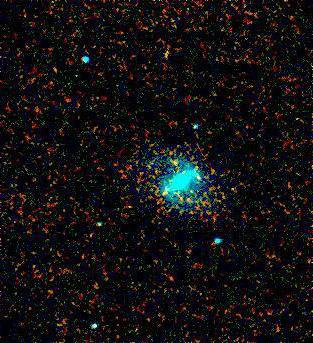star: (158, 152, 188, 182)
